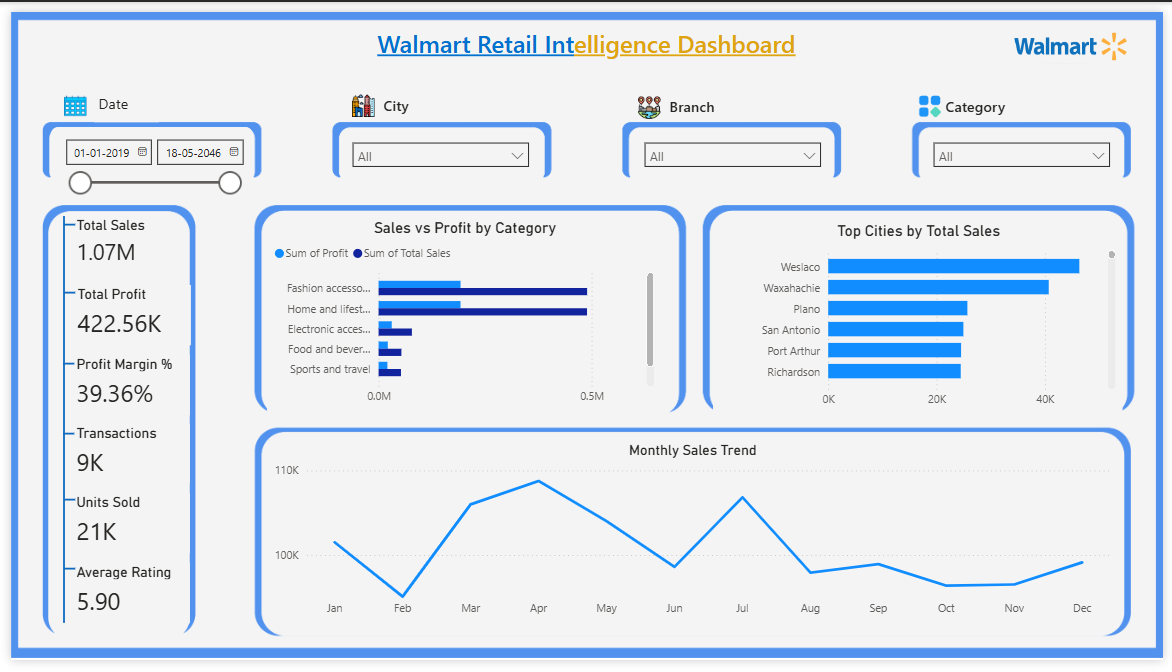

The page's visual inventory and layout, read from the dashboard file:
{"tool":"powerbi","page":{"name":"Executive Overview","canvas":[1280,720],"ordinal":0},"visuals":[{"type":"slicer","fields":{"Values":["Walmart Data Cleaning.Date"]},"box":[44,128,224,82],"z":0},{"type":"lineChart","title":"Monthly Sales Trend","fields":{"Category":["Walmart Data Cleaning.Month Name"],"Y":["Sum(Walmart Data Cleaning.Total Sales)"]},"box":[284,474,944,209],"z":1000},{"type":"clusteredBarChart","title":"Sales vs Profit by Category","fields":{"Category":["Walmart Data Cleaning.Category"],"Y":["Sum(Walmart Data Cleaning.Profit)","Sum(Walmart Data Cleaning.Total Sales)"]},"box":[284,227,438,221],"z":2000},{"type":"clusteredBarChart","title":"Top Cities by Total Sales","fields":{"Category":["Walmart Data Cleaning.City"],"Y":["Sum(Walmart Data Cleaning.Total Sales)"]},"box":[780,230,455,221],"z":3000},{"type":"textbox","box":[379,11.2,522,54],"z":4000},{"type":"image","box":[1078,18.8,202,39],"z":5000},{"type":"textbox","box":[92.5,85.8,71.7,36.7],"z":6000},{"type":"textbox","box":[1033.5,88.3,89.2,33.3],"z":7000},{"type":"textbox","box":[726.7,88.3,89.2,33.3],"z":8000},{"type":"textbox","box":[409.1,88.2,89.1,33.6],"z":9000},{"type":"image","box":[59.2,86.7,25,35],"z":10000},{"type":"image","box":[696.7,88.3,25,35.8],"z":11000},{"type":"image","box":[379.2,86.7,25,35],"z":12000},{"type":"image","box":[1007.7,86.7,25.8,36.7],"z":13000},{"type":"slicer","fields":{"Values":["Walmart Data Cleaning.City"]},"box":[366,131,224,46],"z":14000},{"type":"slicer","fields":{"Values":["Walmart Data Cleaning.Branch"]},"box":[690,131,224,46],"z":15000},{"type":"slicer","fields":{"Values":["Walmart Data Cleaning.Category"]},"box":[1011,131,224,46],"z":16000},{"type":"textbox","title":"Total Sales","box":[68.2,226.7,121,67],"z":17000},{"type":"textbox","title":"Total Profit","box":[68.9,303.3,120,67.8],"z":18000},{"type":"textbox","title":"Profit Margin %","box":[68.2,381.1,131,67],"z":19000},{"type":"textbox","title":"Units Sold","box":[68.2,534.5,131,67],"z":20000},{"type":"textbox","title":"Average Rating","box":[68.2,611.7,131,67],"z":21000},{"type":"textbox","title":"Transactions","box":[68.2,458.3,131,66],"z":22000},{"type":"shape","box":[43.3,226.7,31.1,452.2],"z":23000},{"type":"shape","box":[59.2,230,12.5,12.5],"z":24000},{"type":"shape","box":[58.3,305.8,12.5,12.5],"z":25000},{"type":"shape","box":[57.5,384.2,12.5,12.5],"z":26000},{"type":"shape","box":[57.5,461.7,12.5,12.5],"z":27000},{"type":"shape","box":[58.3,535,12.5,12.5],"z":28000},{"type":"shape","box":[58.3,611.7,12.5,12.5],"z":29000}]}

Visuals, with their boxes in screenshot pixels (x1, y1, x2, y2), scaled from the page's 1280x720 canvas onto the 1172x672 screenshot:
slicer - Walmart Data Cleaning.Date: 40/119/245/196
"Monthly Sales Trend" lineChart: 260/442/1124/637
"Sales vs Profit by Category" clusteredBarChart: 260/212/661/418
"Top Cities by Total Sales" clusteredBarChart: 714/215/1131/421
textbox: 347/10/825/61
image: 987/18/1171/54
textbox: 85/80/150/114
textbox: 946/82/1028/113
textbox: 665/82/747/113
textbox: 375/82/456/114
image: 54/81/77/114
image: 638/82/661/116
image: 347/81/370/114
image: 923/81/946/115
slicer - Walmart Data Cleaning.City: 335/122/540/165
slicer - Walmart Data Cleaning.Branch: 632/122/837/165
slicer - Walmart Data Cleaning.Category: 926/122/1131/165
"Total Sales" textbox: 62/212/173/274
"Total Profit" textbox: 63/283/173/346
"Profit Margin %" textbox: 62/356/182/418
"Units Sold" textbox: 62/499/182/561
"Average Rating" textbox: 62/571/182/633
"Transactions" textbox: 62/428/182/489
shape: 40/212/68/634
shape: 54/215/66/226
shape: 53/285/65/297
shape: 53/359/64/370
shape: 53/431/64/443
shape: 53/499/65/511
shape: 53/571/65/583
